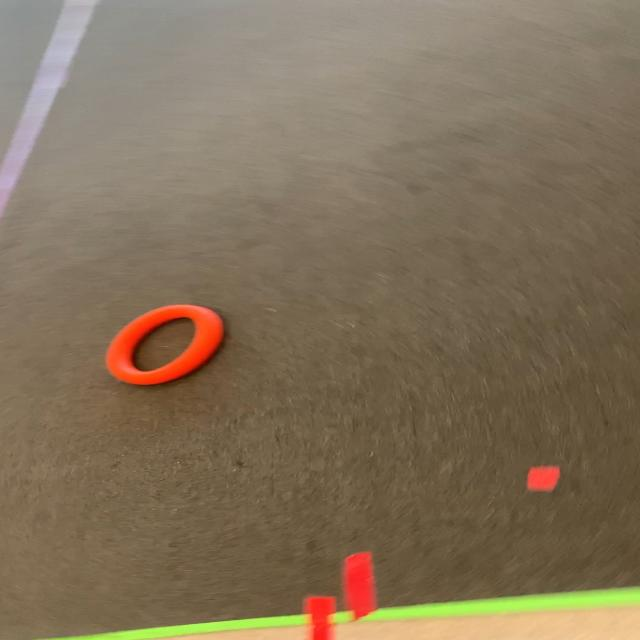notes: (103, 303, 230, 386)
